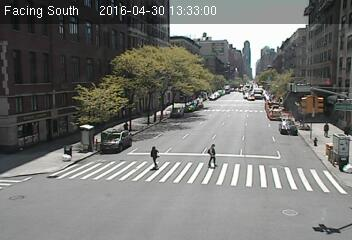neg: (107, 49, 129, 78), (73, 54, 93, 80), (24, 108, 43, 133), (154, 57, 172, 81), (215, 79, 233, 102), (259, 68, 274, 89), (55, 141, 69, 159), (188, 91, 201, 109), (246, 78, 258, 95), (283, 67, 295, 83), (202, 80, 213, 95), (235, 79, 245, 93), (170, 96, 178, 107)
pos: (202, 140, 223, 167), (142, 142, 161, 168), (319, 120, 333, 139), (116, 118, 128, 134), (341, 118, 351, 135)
